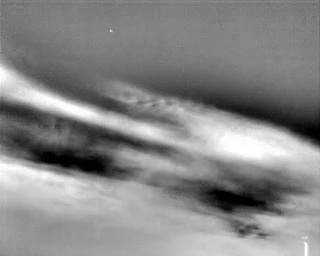BIRD: (108, 27, 114, 34)
